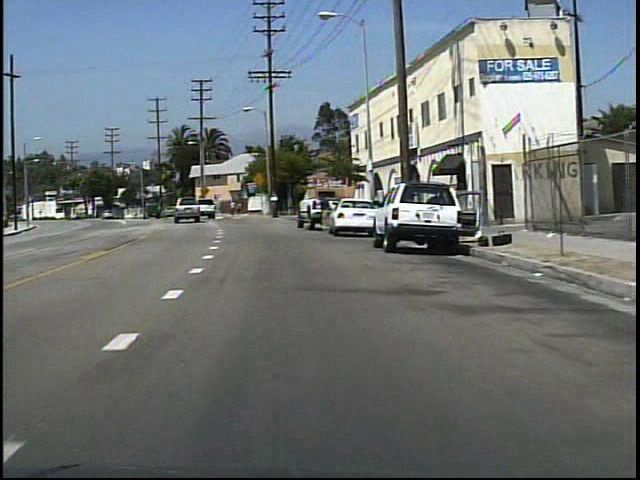person: (317, 189, 337, 235), (230, 198, 240, 219), (236, 200, 244, 217)
